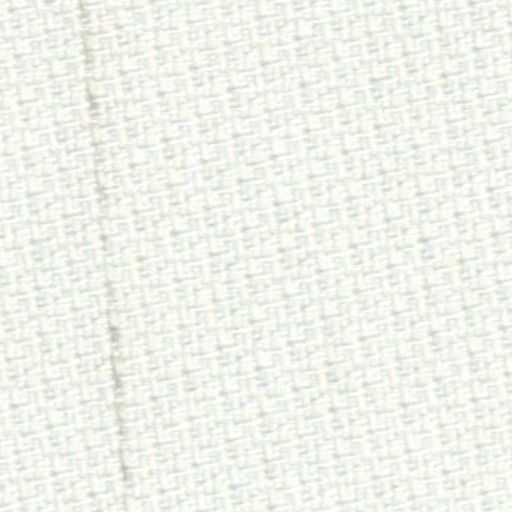WuZi: (72, 3, 138, 494)
